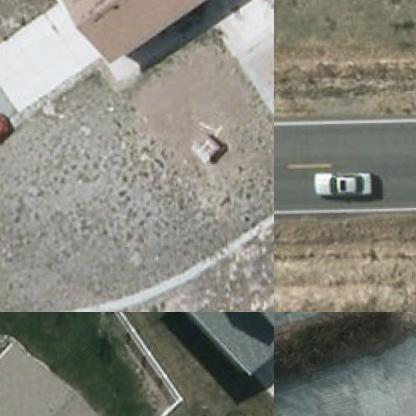car: (310, 171, 373, 200), (0, 114, 16, 166)
